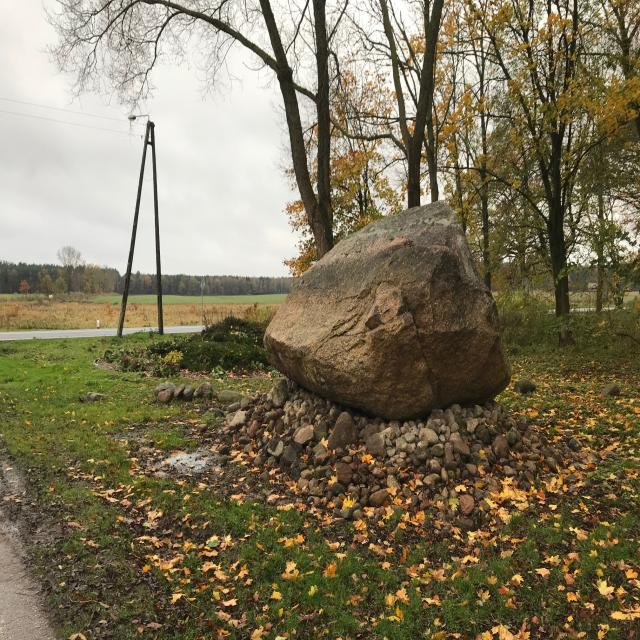grass: (0, 338, 640, 640)
stone: (264, 202, 510, 419)
